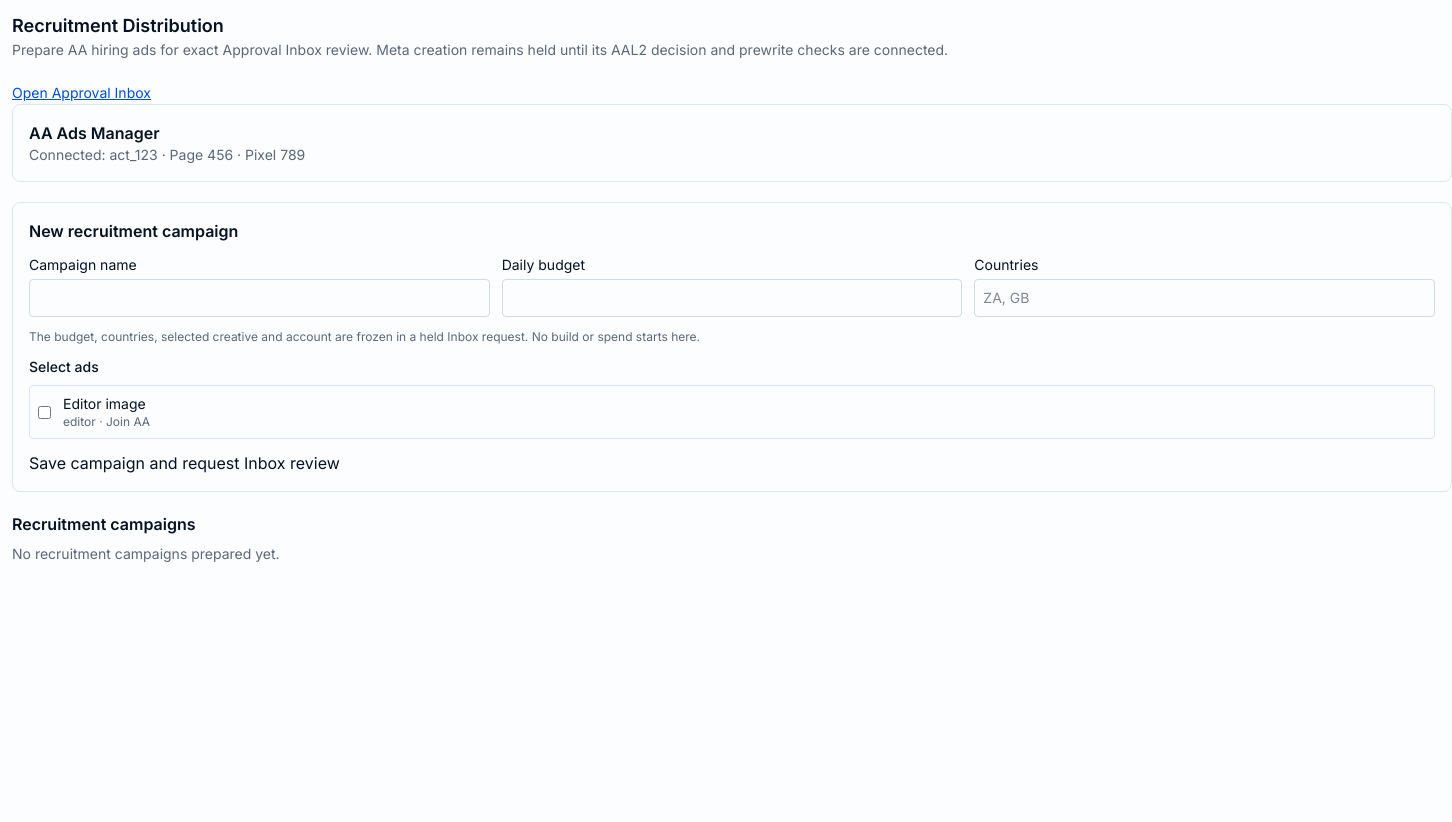
Test: selects approved AA ads and records a held Inbox request without promising a Meta build
Expected: the text "Connected: act_123 · Page 456 · Pixel 789" is shown, [29,146,305,163]
Type "Editor hiring" into the field labelled "Campaign name".
click(259, 298); type("Editor hiring")  # box [29,279,490,317]
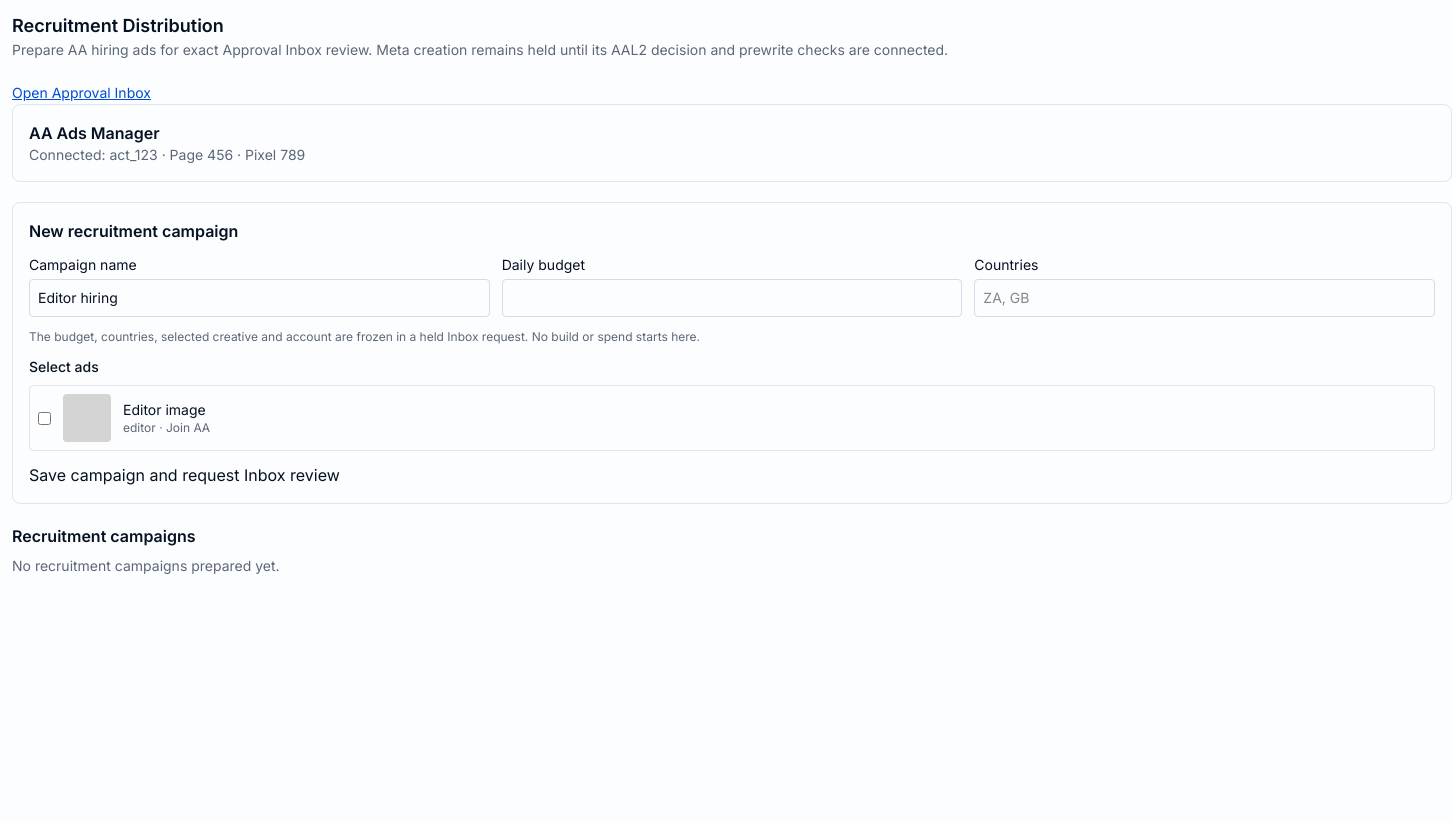
Type "25" into the number field labelled "Daily budget".
click(732, 298); type("25")  # box [502,279,962,317]
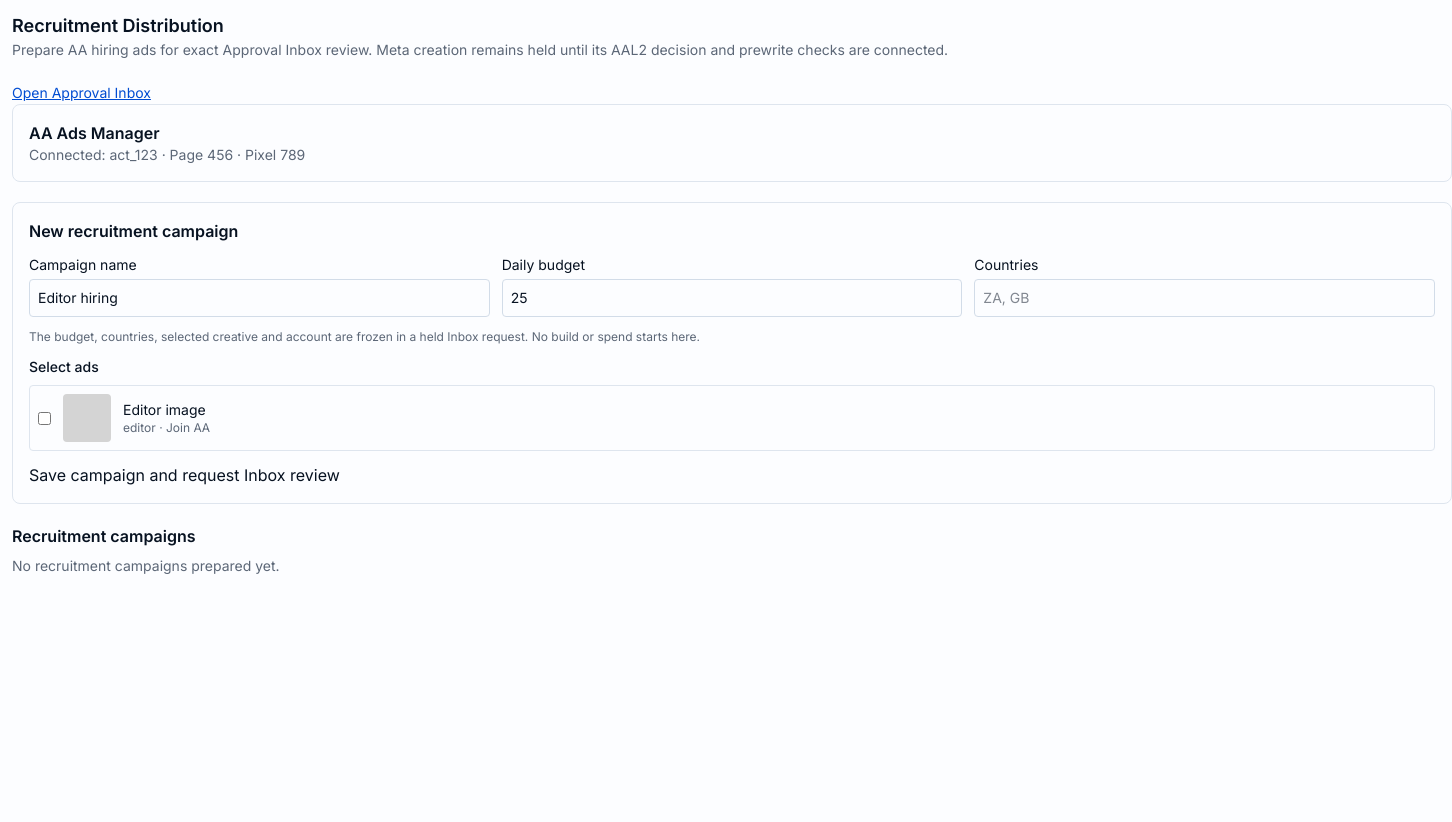
Type "za, gb" into the field labelled "Countries".
click(1205, 298); type("za, gb")  # box [974,279,1435,317]
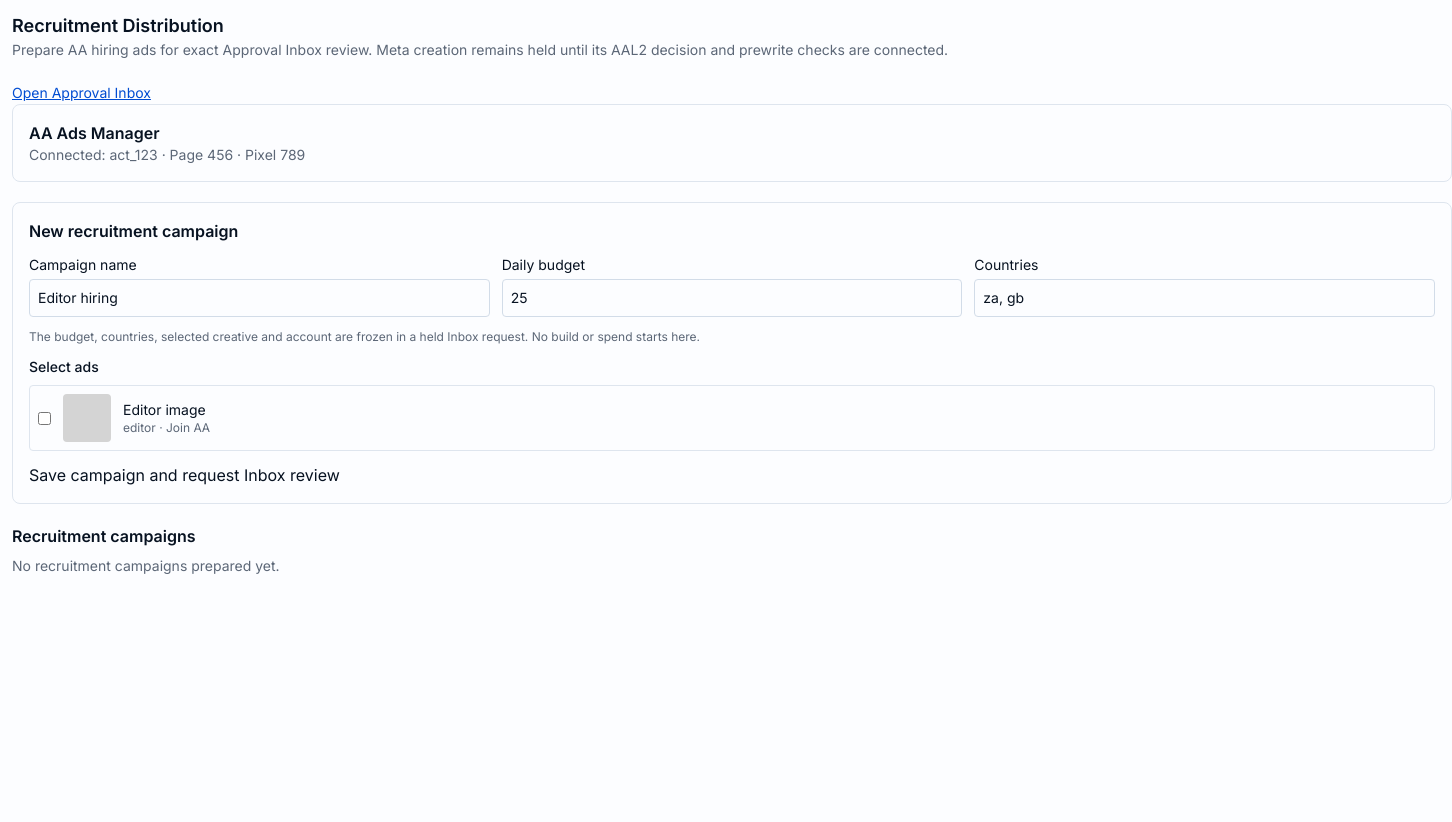
Click the checkbox labelled "Editor image editor · Join AA".
click(44, 418)  # box [38,412,51,424]
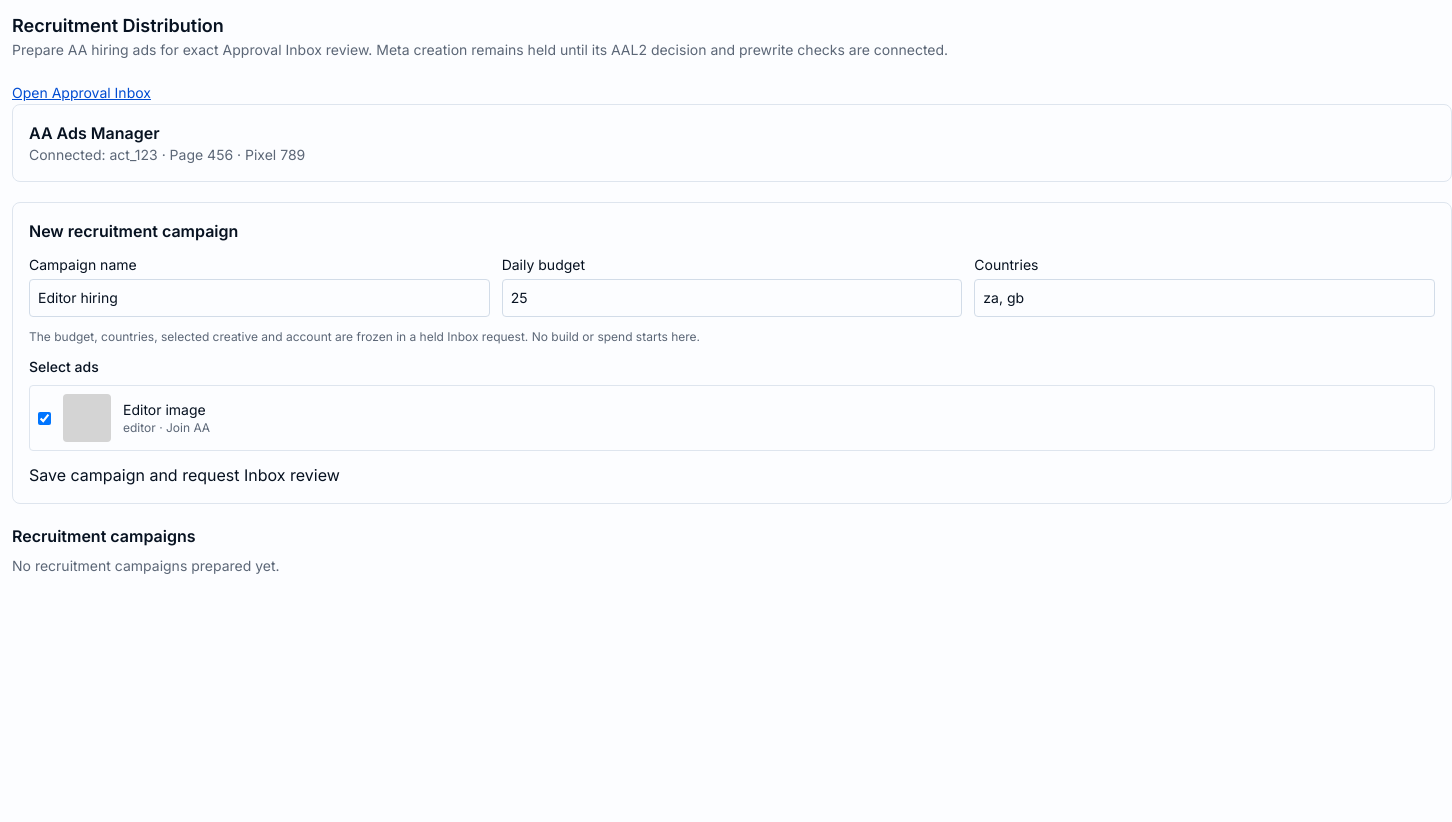
Click the button "Save campaign and request Inbox review".
click(184, 475)  # box [29,463,340,487]
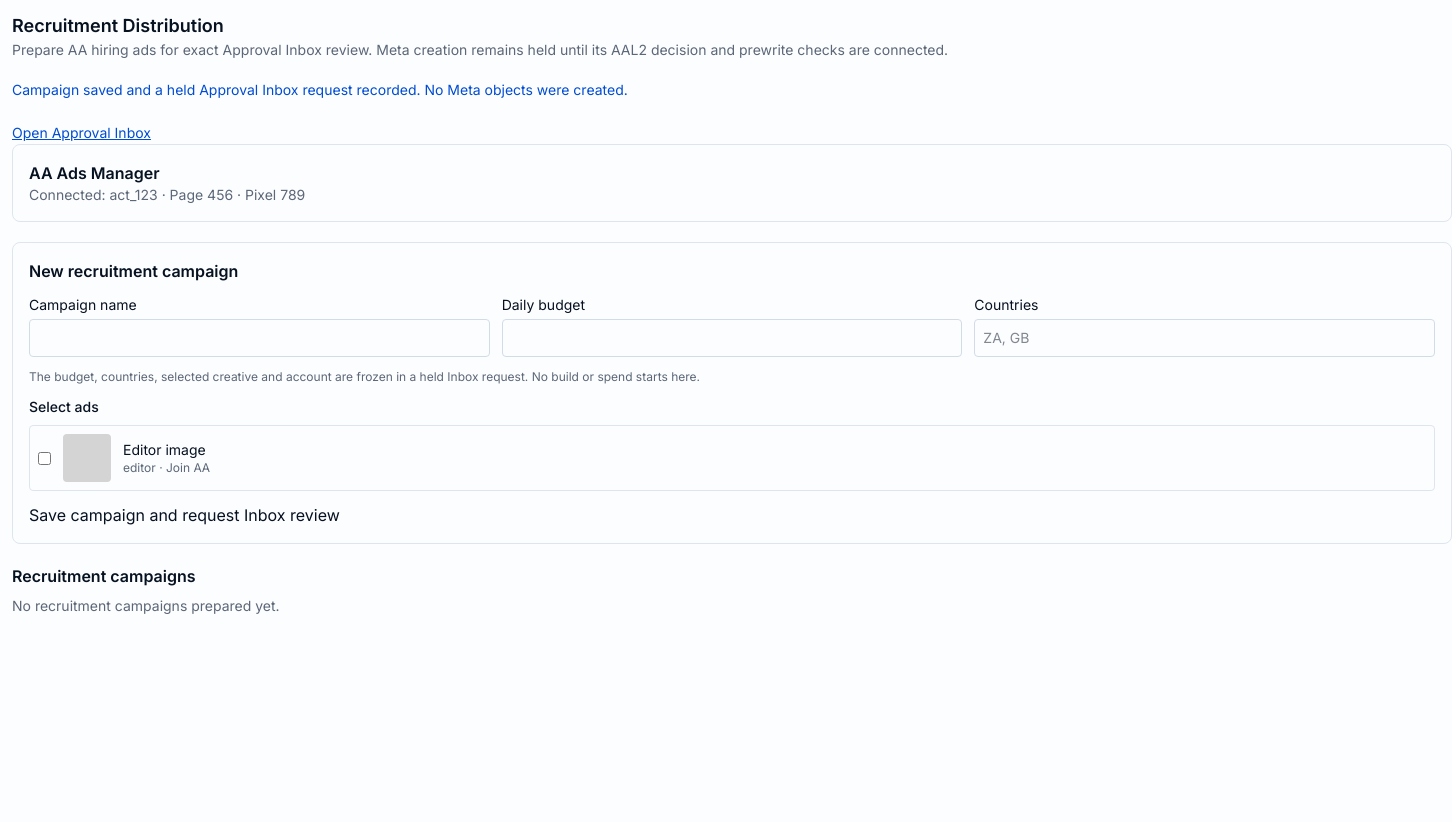
Now the message shows "No Meta objects were created", box [12,81,628,98]
